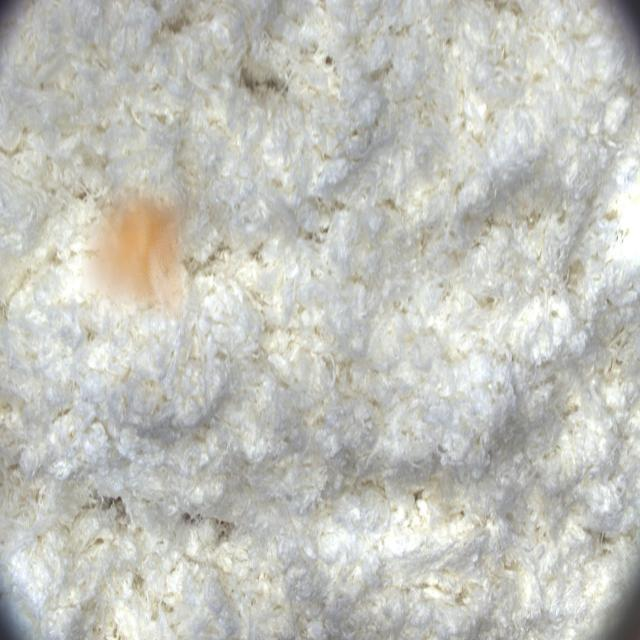dust: (81, 178, 197, 322)
